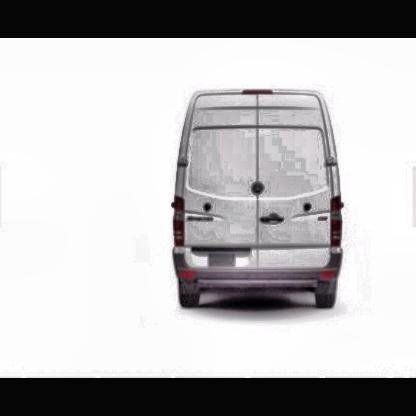Mercedes-Benz Sprinter Van 2012: (170, 81, 346, 314)
